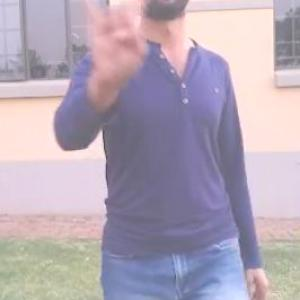takeoff-hand: (71, 0, 160, 87)
